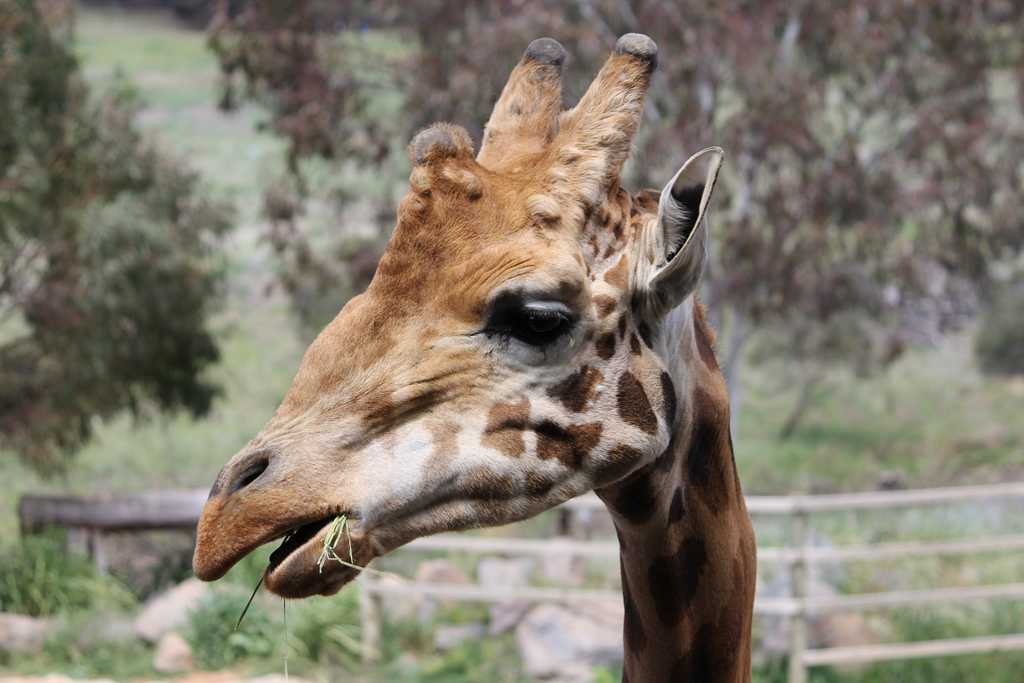giraffe: (200, 21, 790, 674)
